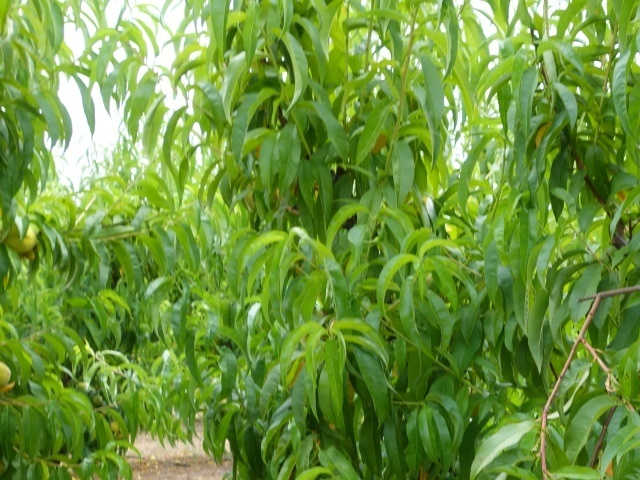peach: (3, 221, 40, 257)
